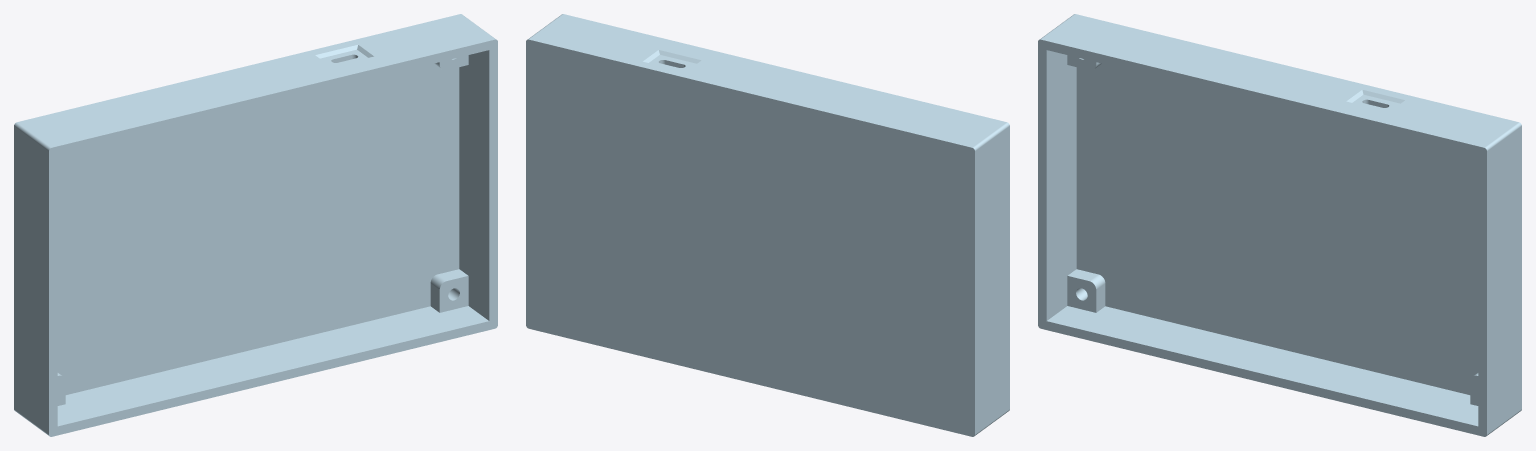
The model's file is A320LTP Base.gltf.
3 renders of one model, left to right at view 1: azimuth 30°, elevation 25°; view 2: azimuth 150°, elevation 25°; view 3: azimuth 330°, elevation 25°, orthographic.
Visible parts, largest first — view 1: Part 1; view 2: Part 1; view 3: Part 1.
Boxes of the visible parts, box(x1,y1,x2,y2) form: Part 1: box(14, 14, 497, 436); Part 1: box(526, 14, 1009, 436); Part 1: box(1038, 14, 1521, 436).
Size of the model in its own units: 0.156 by 0.096 by 0.021.
